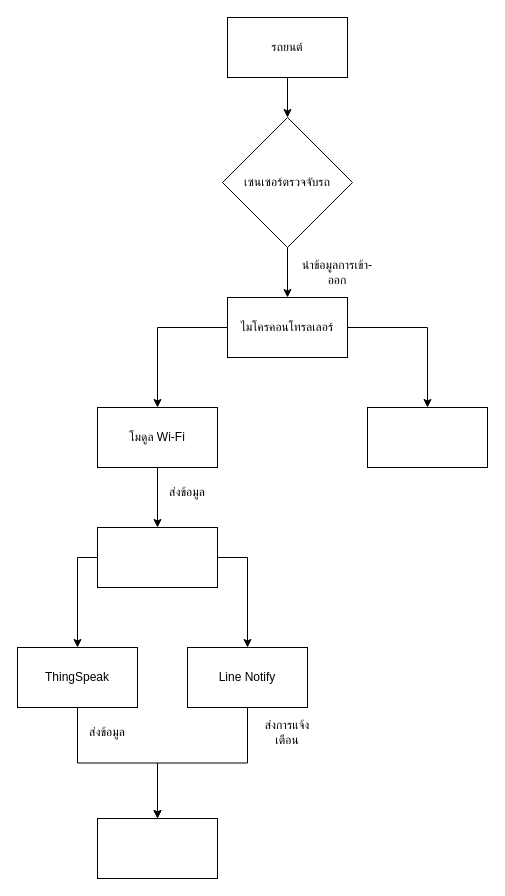
Some shapes in this 505 by 896 pixel diagram are drawn without their labels. Each missing label, with the box of its shape:
จอแสดงผลสถานะที่จอดรถ: (366, 406, 488, 468)
อินเทอร์เน็ต: (96, 526, 218, 588)
แอปพลิเคชันมือถือ: (96, 818, 218, 878)
